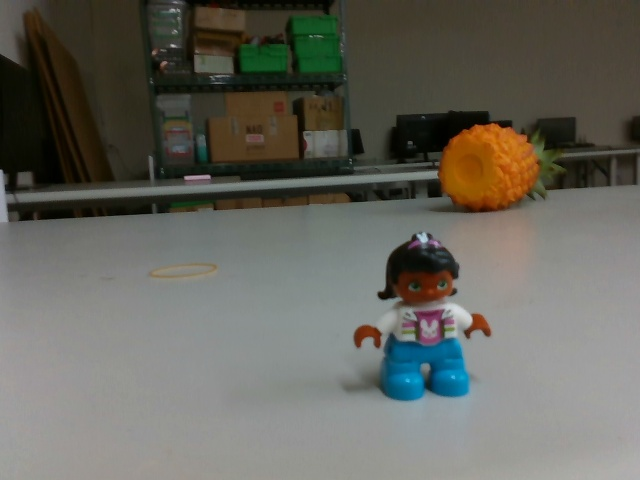people: (351, 232, 492, 402)
